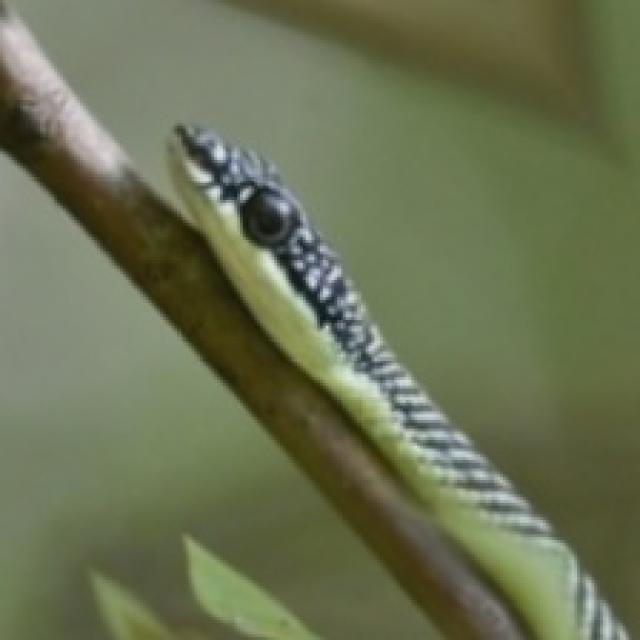paradise tree snake: (169, 126, 626, 637)
